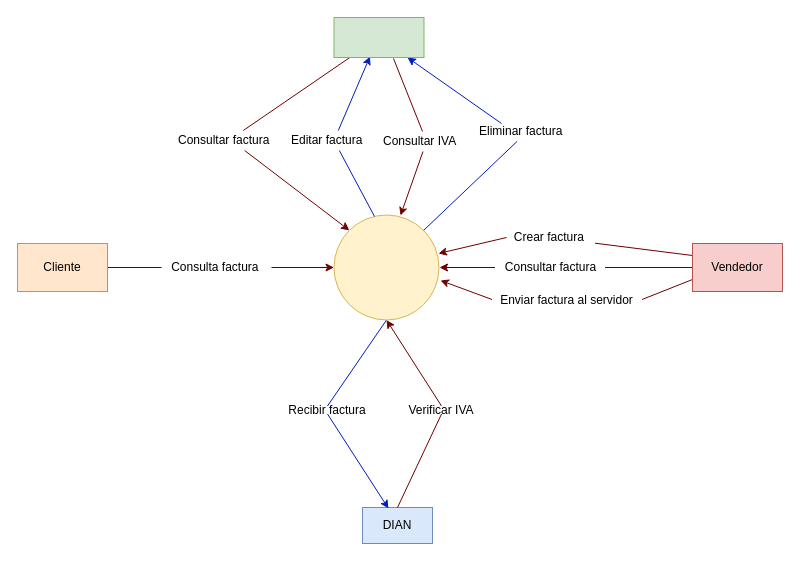
Some shapes in this 800 by 561 pixel diagram are drawn without their labels. Here are the shapes that lost their labels. From the top down, the box of each, then its label:
(333, 16, 424, 58): Administrador
(333, 214, 439, 320): Facturacion Electronica
